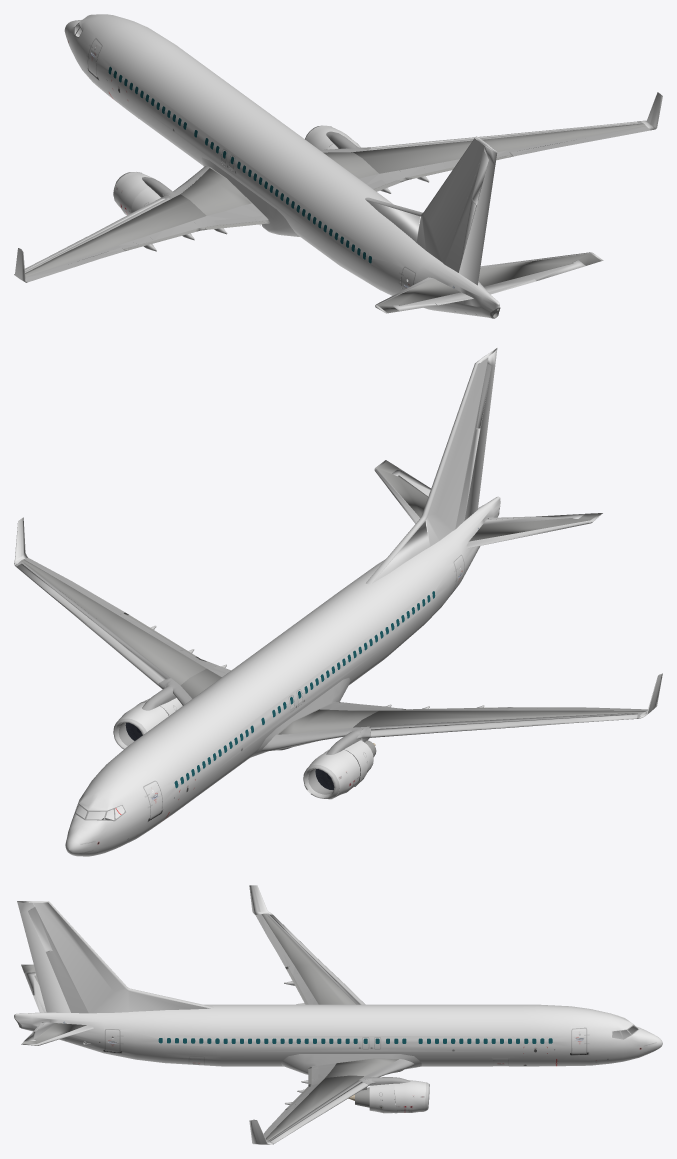
3 views of the same model, one above another, from view 1: azimuth 30°, elevation 25°; view 2: azimuth 150°, elevation 25°; view 3: azimuth 270°, elevation 25° (orthographic). The views are drawn at different scales.
Visible parts, largest first — view 1: fuselage, vstab, obwing_001, obwing, rudder, winginbd, rhstab, lhstab, lhfairing, windowslh, engnose_001, panel1upper (+8 smaller); view 2: fuselage, vstab, obwing_001, obwing, lhstab, winginbd, rudder, rhstab, vstable, engnose_001, windowslh, ible (+3 smaller); view 3: fuselage, vstab, obwing, rudder, obwing_001, rhwtobfairing, windowsrh, No2engfancase, winginbd_001, No2reverser, rhstab, vstable (+2 smaller).
Part boxes in pixels (x1,y1,x2,y2): fuselage: (64, 14, 500, 318); vstab: (366, 136, 497, 272); obwing_001: (353, 123, 645, 173); obwing: (25, 194, 206, 277); rudder: (459, 146, 496, 285); winginbd: (181, 167, 251, 215); rhstab: (478, 252, 603, 286); lhstab: (375, 277, 460, 313); lhfairing: (200, 157, 299, 236); windowslh: (108, 66, 371, 263); engnose_001: (113, 172, 152, 215); panel1upper: (193, 203, 268, 227); fuselage: (65, 496, 500, 856); vstab: (372, 348, 497, 583); obwing_001: (21, 559, 206, 685); obwing: (353, 710, 645, 727); lhstab: (466, 513, 602, 548); winginbd: (276, 709, 378, 734); rudder: (464, 349, 497, 520); rhstab: (374, 460, 428, 523); vstable: (366, 362, 478, 584); engnose_001: (308, 749, 360, 799); windowslh: (174, 591, 435, 788); ible: (261, 727, 365, 751); fuselage: (14, 1004, 662, 1066); vstab: (17, 901, 210, 1013); obwing: (261, 913, 355, 1004); rudder: (17, 902, 70, 1012); obwing_001: (265, 1075, 363, 1141); rhwtobfairing: (281, 1054, 421, 1074); windowsrh: (158, 1038, 552, 1043); No2engfancase: (394, 1080, 425, 1112); winginbd_001: (325, 1058, 398, 1077); No2reverser: (369, 1083, 396, 1113); rhstab: (21, 1023, 93, 1045); vstable: (48, 901, 213, 1008).
Size of the model in its own units: 34.85 by 12.11 by 40.62.
Materials: 50 (18 with a texture image).
